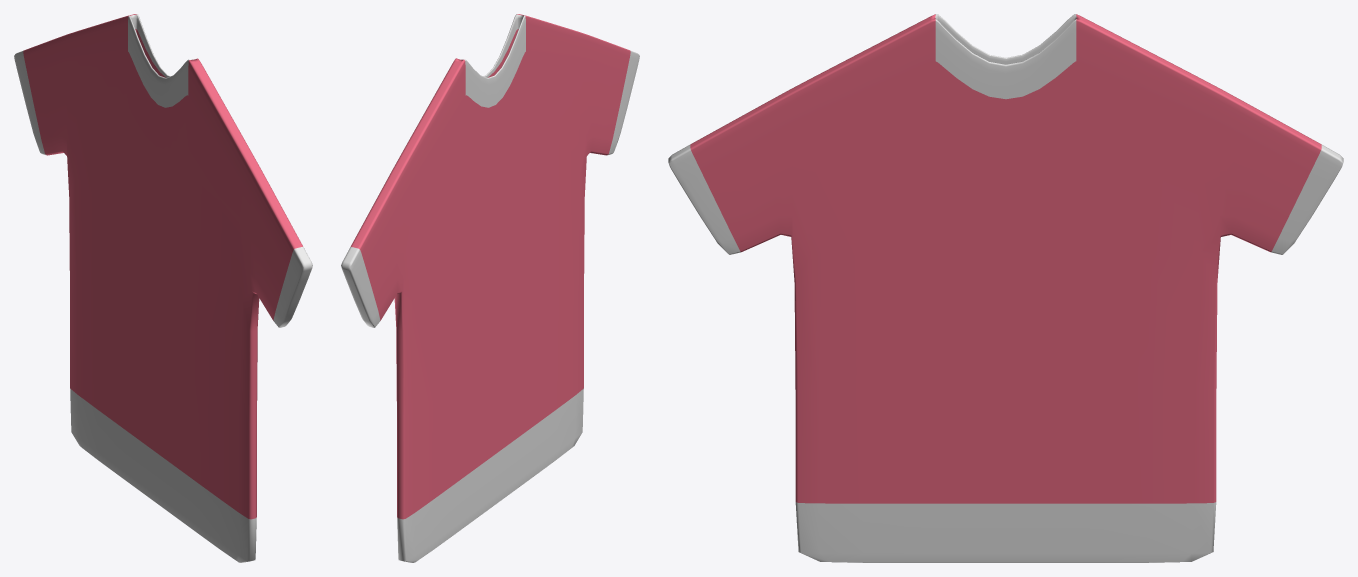
Rendered from t-shit.fbx.
The picture shows the model from 3 angles, left to right: view 1: azimuth 30°, elevation 25°; view 2: azimuth 150°, elevation 25°; view 3: azimuth 270°, elevation 25°; orthographic projection. The views are drawn at different scales.
Parts seen in each view (by area): view 1: t-shirt; view 2: t-shirt; view 3: t-shirt.
Boxes of the visible parts, <box> form: t-shirt: <box>14,14,312,562</box>; t-shirt: <box>341,14,639,562</box>; t-shirt: <box>668,14,1343,562</box>.
Bounding box in the file's own units: 12.97 × 541 × 608.
